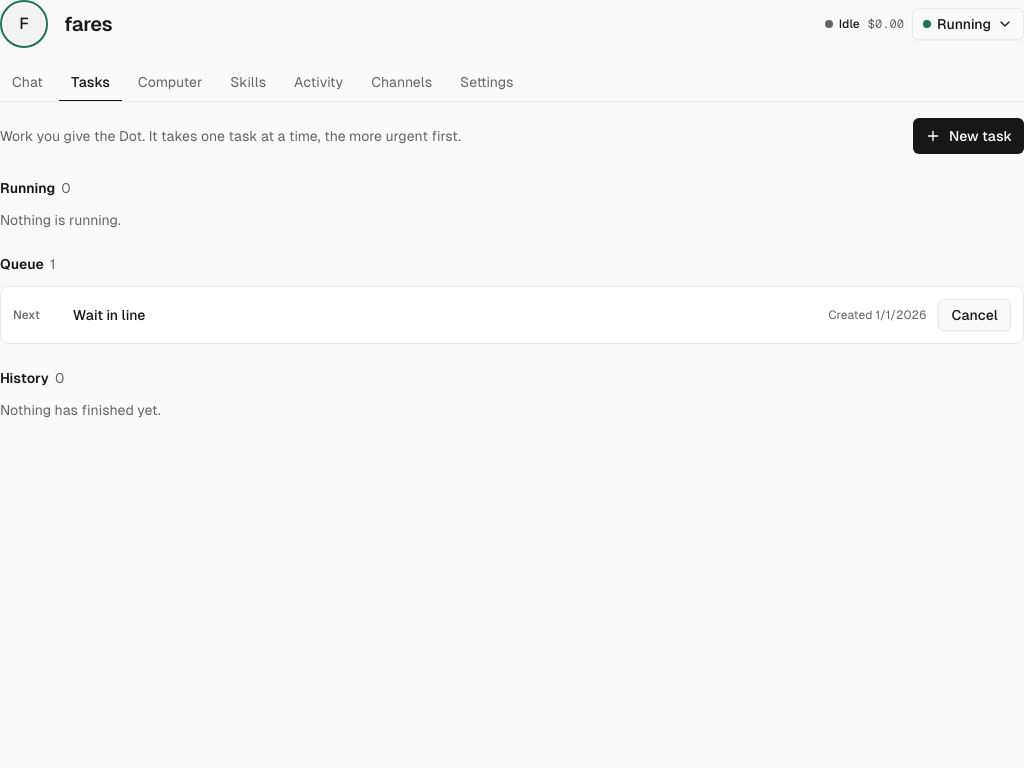
Test: cancelling › tells a queued task's consequence differently, and shows a refusal inside the dialog
Check: the heading "fares" is shown, box [64,13,112,35]
Click the button "Cancel" at [975, 315], box [938,299,1011,331]
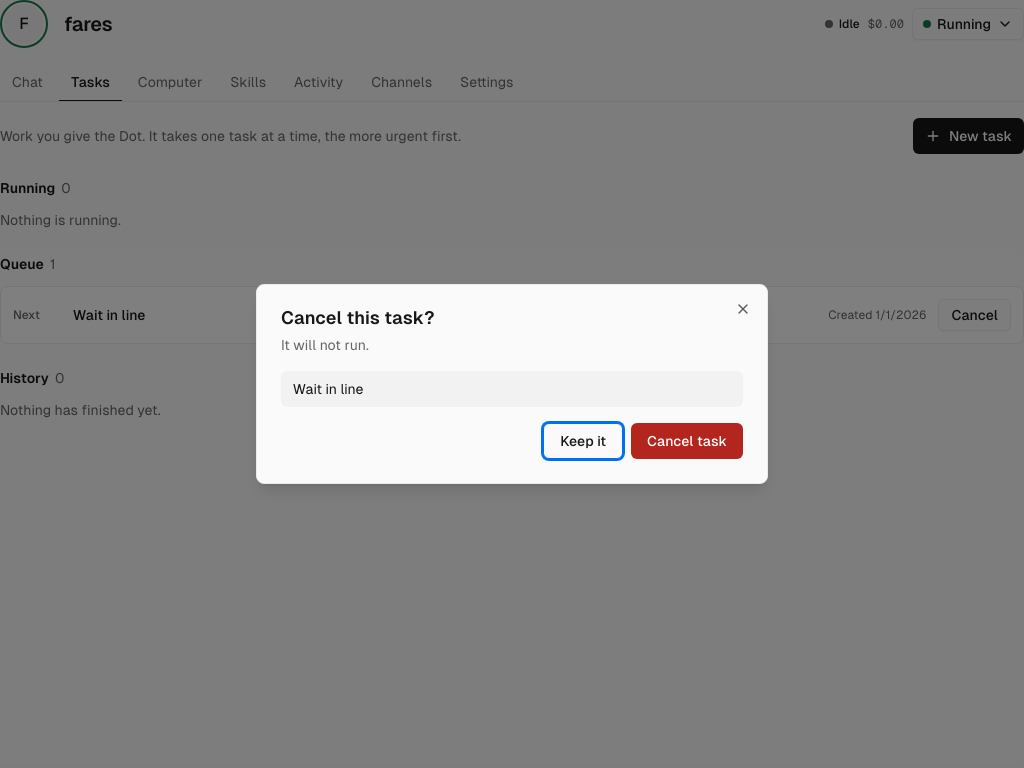
Check: the dialog shows "It will not run.", box [281,337,369,353]
Click the button "Cancel task" at [687, 441], box [631,423,743,459]
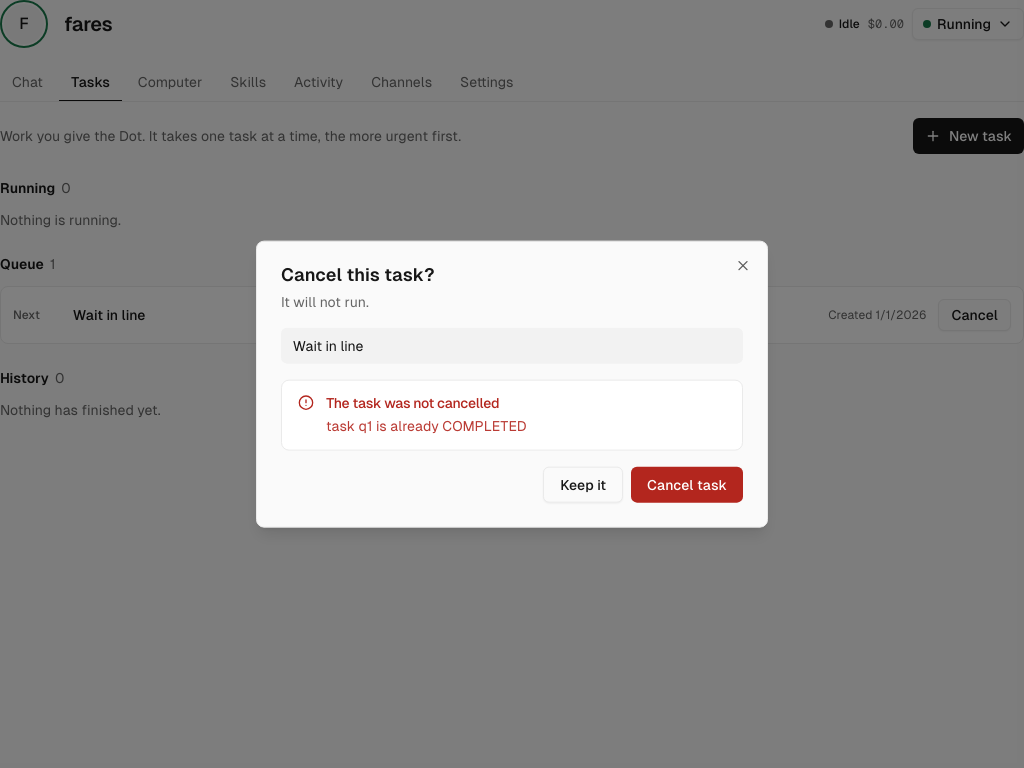
Check: the dialog is shown, box [256,241,768,527]
Check: the message shows "task q1 is already COMPLETED", box [326,418,527,434]
